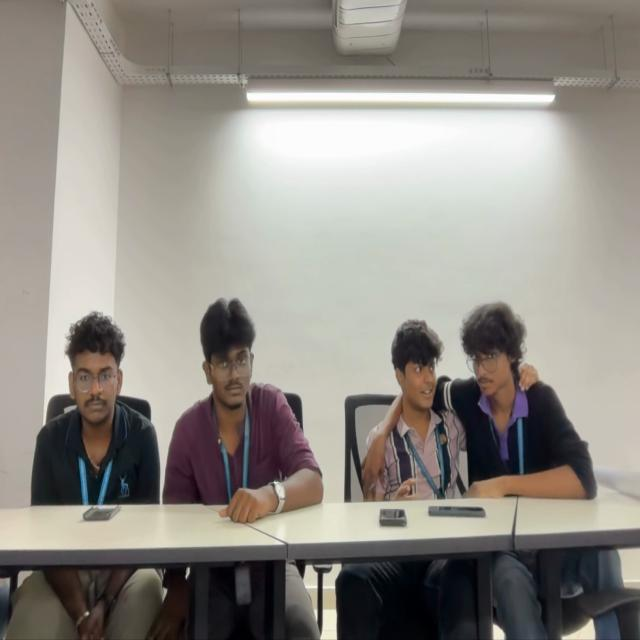Isolated: (161, 297, 324, 514), (30, 325, 155, 504)
socializing: (358, 300, 597, 501)
